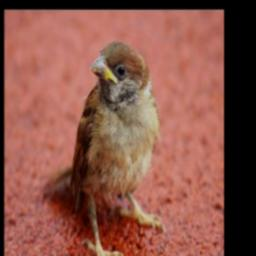Sparrow: (43, 39, 168, 256)
